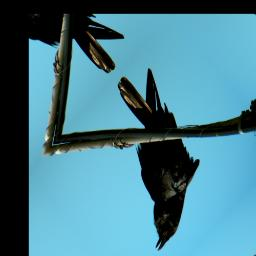Crow: (65, 55, 234, 254)
